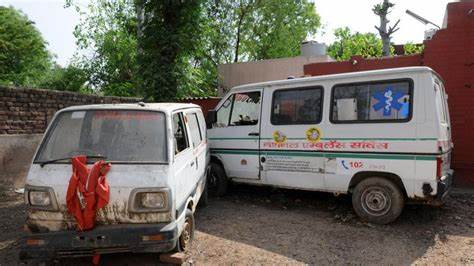ambulance: (200, 76, 448, 212)
